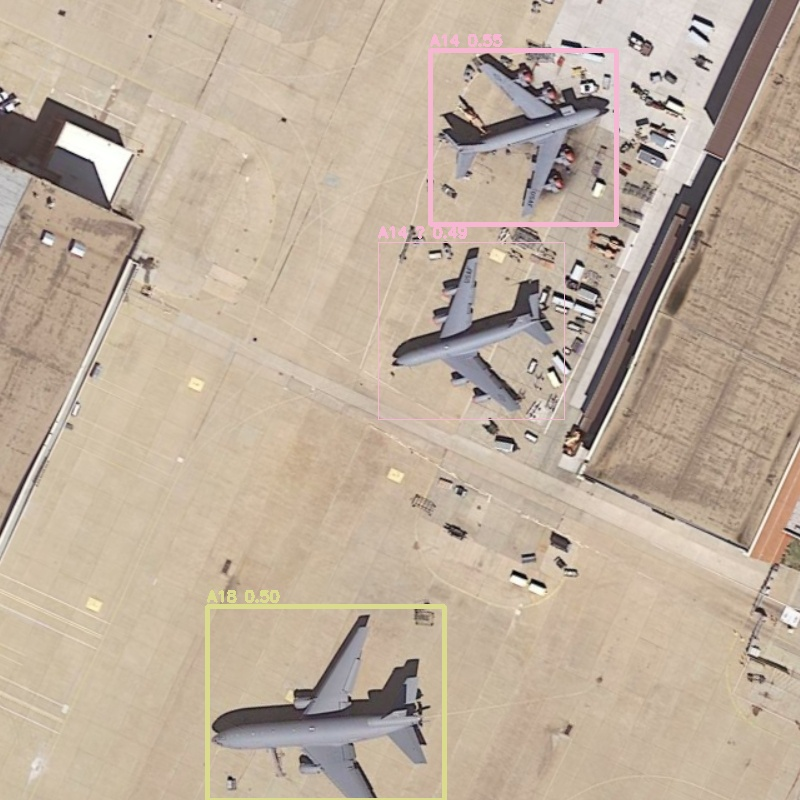A14: (378, 242, 564, 419), (430, 50, 616, 224)
A18: (207, 606, 444, 800)
